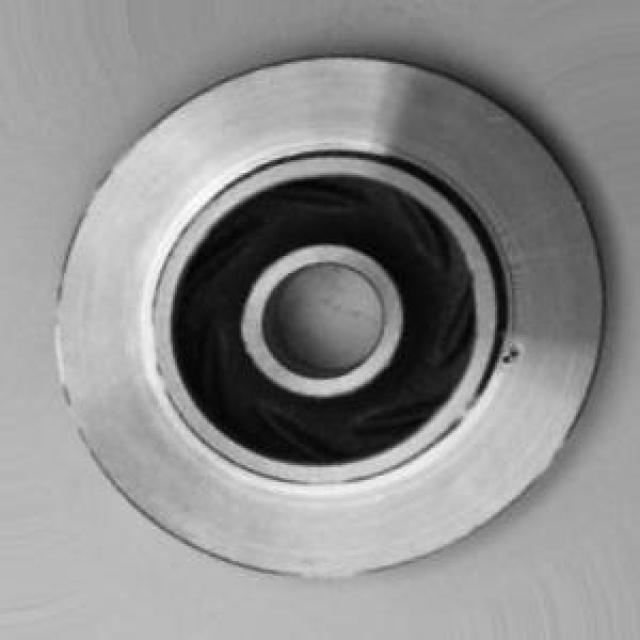Defect: (494, 342, 525, 370)
